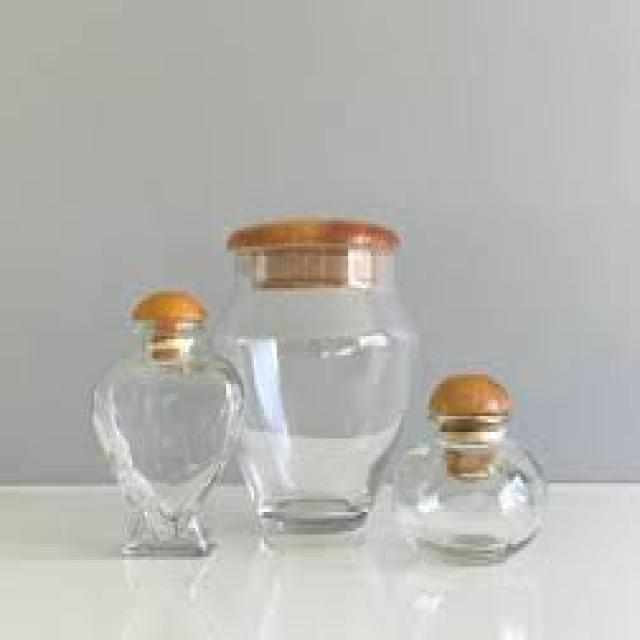glass: (213, 240, 414, 534), (89, 317, 244, 557), (386, 413, 544, 563)
